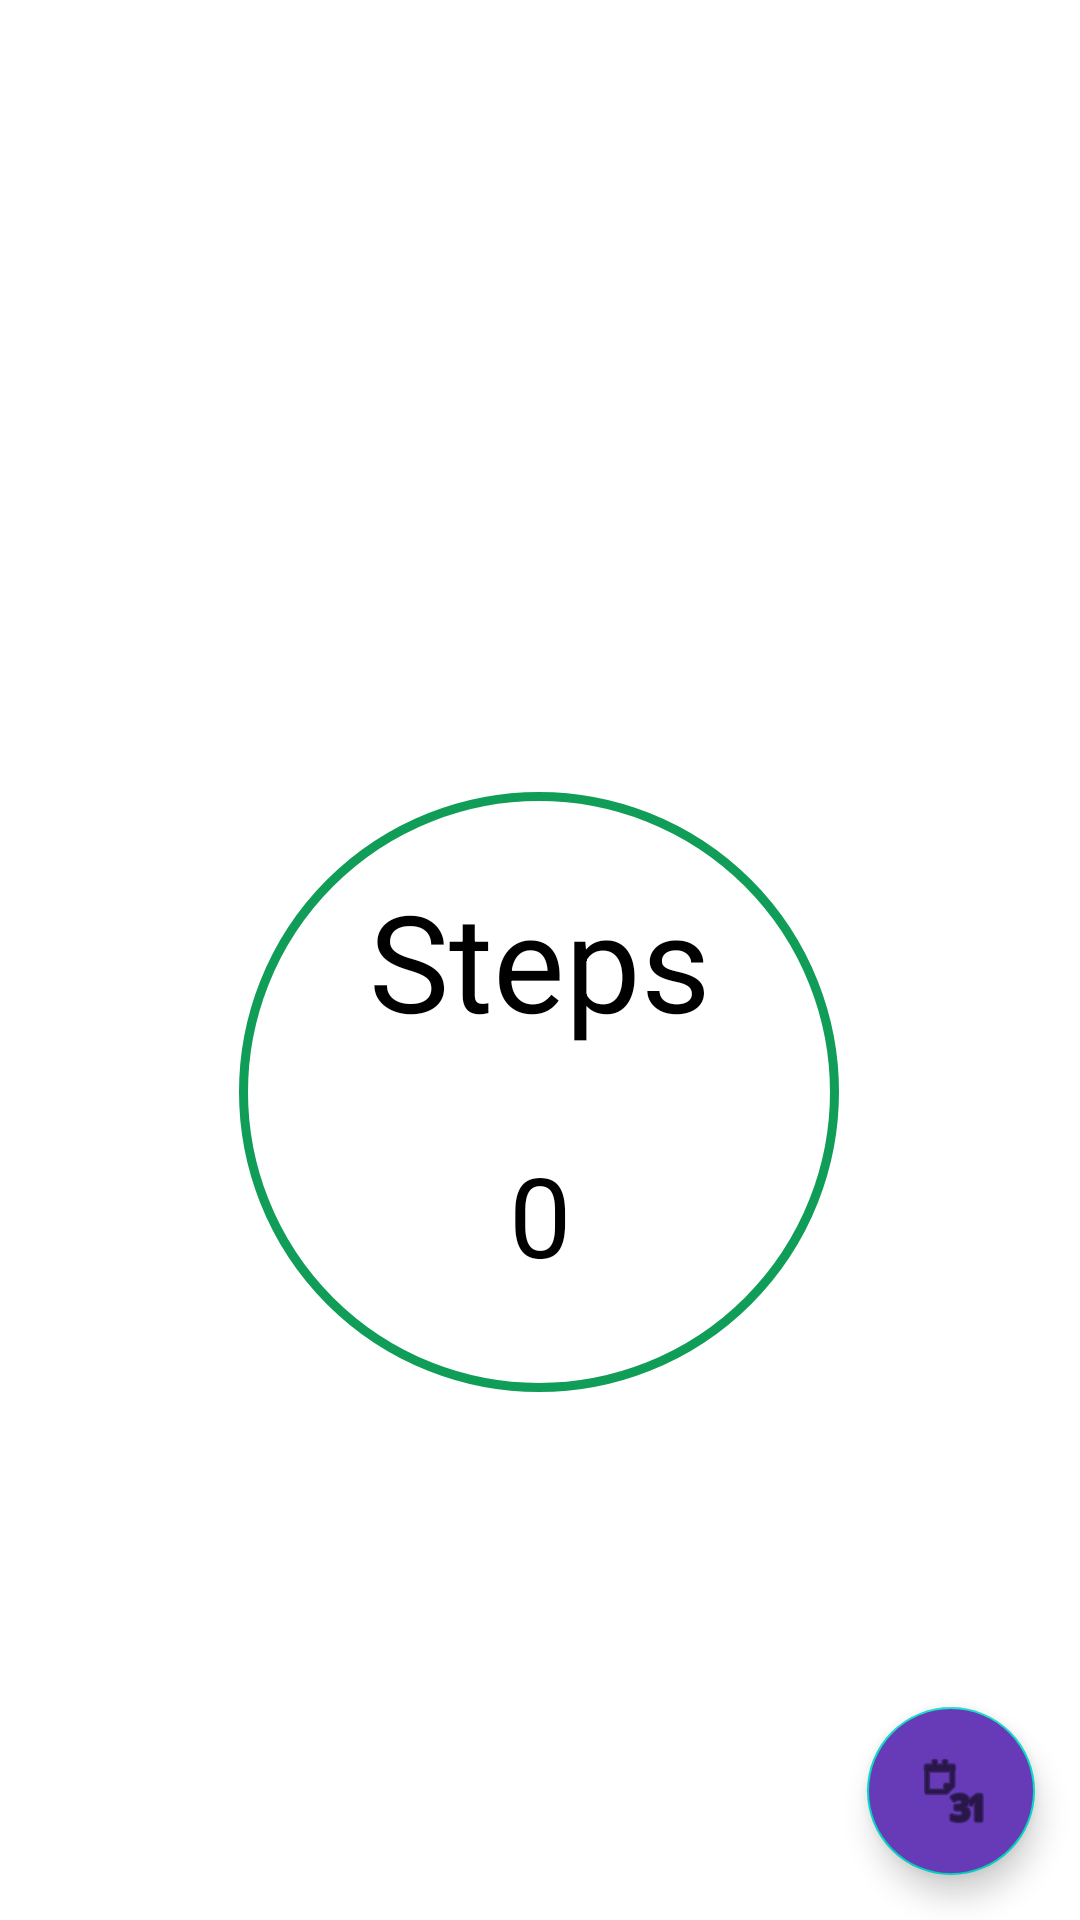

Screen size 1080w x 1920h. Icon name, then its center in pixels as [x,y]:
Show list of days: [951,1791]
